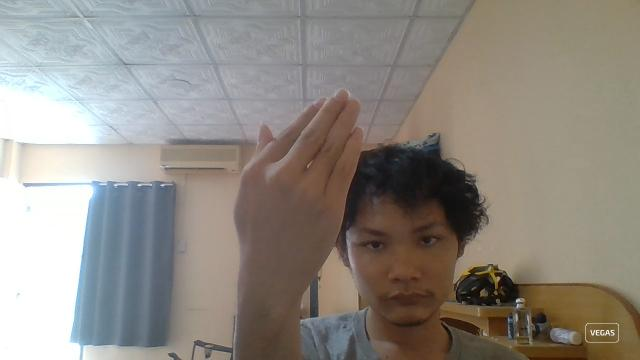backword: (232, 87, 364, 301)
